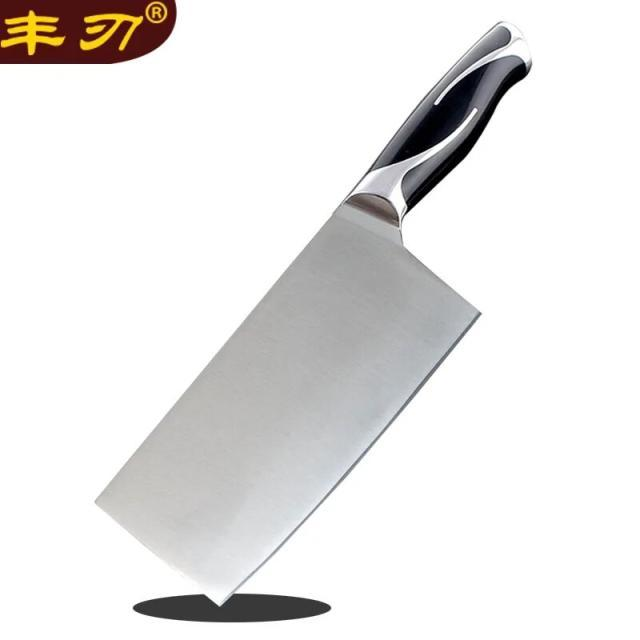Pisau: (74, 13, 554, 623)
